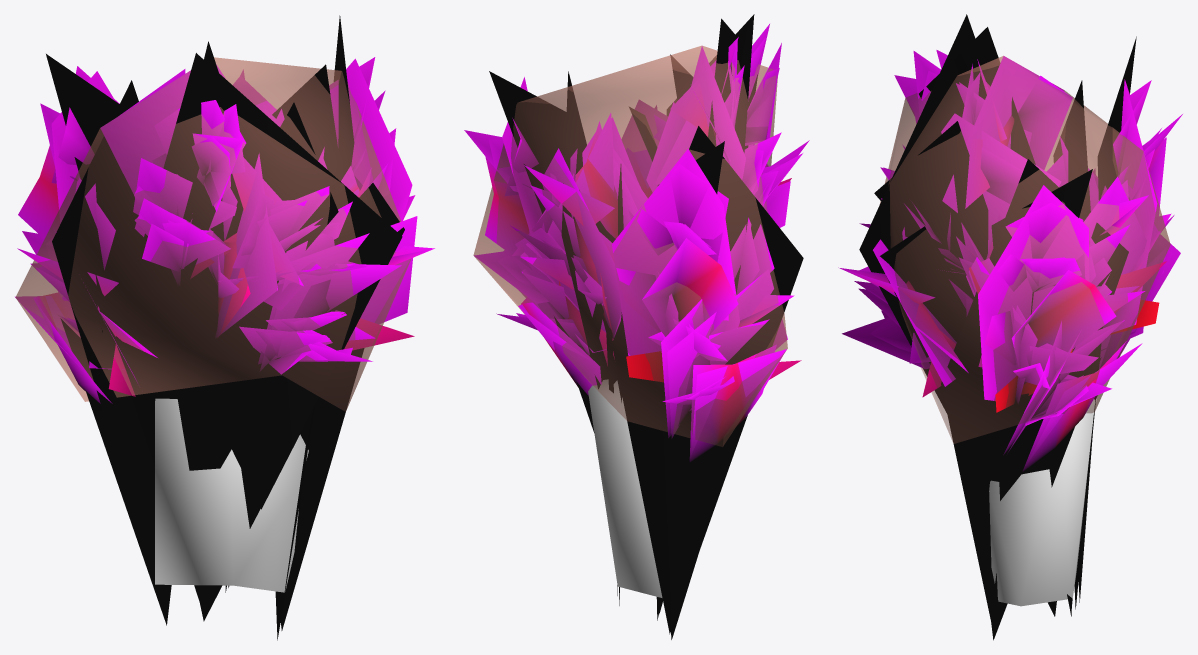
File: tree_aspen_small_low_group.dae
3 renders of one model, left to right at view 1: azimuth 30°, elevation 25°; view 2: azimuth 150°, elevation 25°; view 3: azimuth 270°, elevation 25°, orthographic. The views are drawn at different scales.
Visible parts, largest first — view 1: Colmesh_small_low_group-1, Birch_small_low_group_a200, Birch_small_low_group_a500; view 2: Colmesh_small_low_group-1, Birch_small_low_group_a200, Birch_small_low_group_a500; view 3: Colmesh_small_low_group-1, Birch_small_low_group_a200, Birch_small_low_group_a500.
Part boxes in pixels (bbox=[...]): Colmesh_small_low_group-1: bbox=[15, 57, 411, 592]; Birch_small_low_group_a200: bbox=[15, 53, 417, 630]; Birch_small_low_group_a500: bbox=[17, 15, 434, 640]; Colmesh_small_low_group-1: bbox=[473, 45, 787, 597]; Birch_small_low_group_a200: bbox=[464, 14, 809, 634]; Birch_small_low_group_a500: bbox=[489, 18, 801, 639]; Colmesh_small_low_group-1: bbox=[879, 56, 1170, 606]; Birch_small_low_group_a200: bbox=[842, 14, 1182, 635]; Birch_small_low_group_a500: bbox=[838, 27, 1172, 640].
Size of the model in its own units: 3.63 by 3.23 by 6.03.
